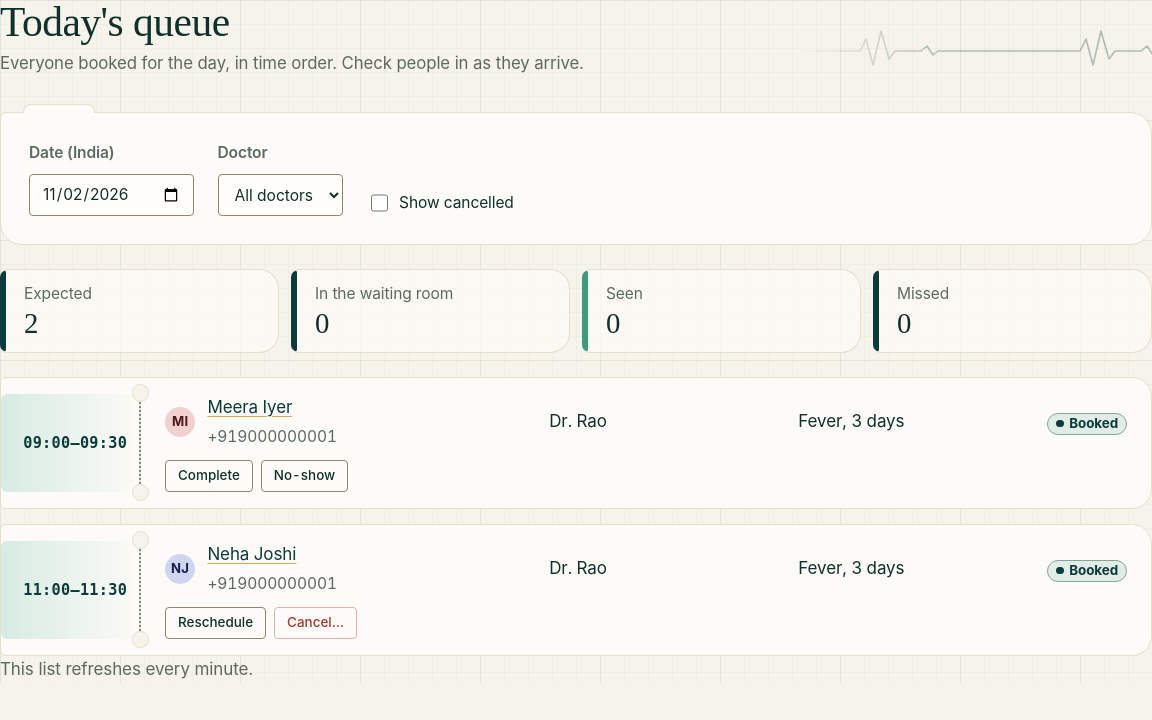
Test: today's queue › shows the server's explanation, with the request id, when an action is refused
Expected: the link "Meera Iyer" is shown, [207, 397, 292, 417]
Click the button "No-show" at (304, 475), box [261, 459, 348, 491]
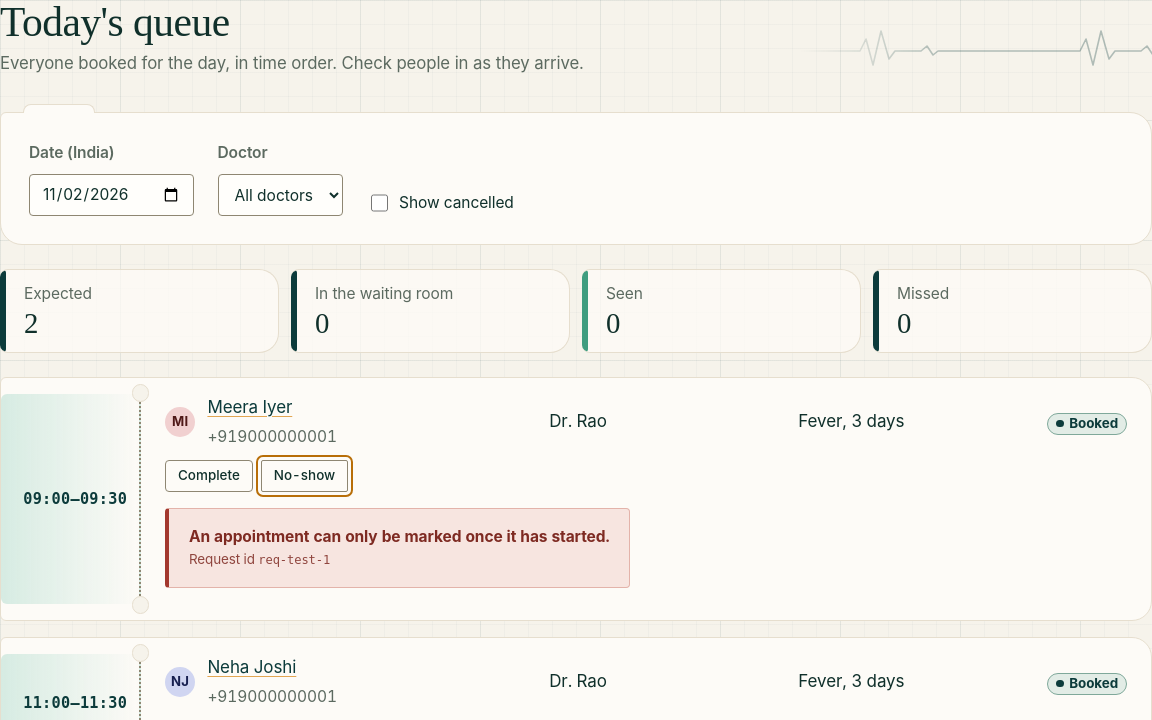
Expected: the message shows "An appointment can only be marked once it has started.", [189, 526, 610, 545]
Expected: the text "req-test-1" is shown, [258, 553, 330, 567]
